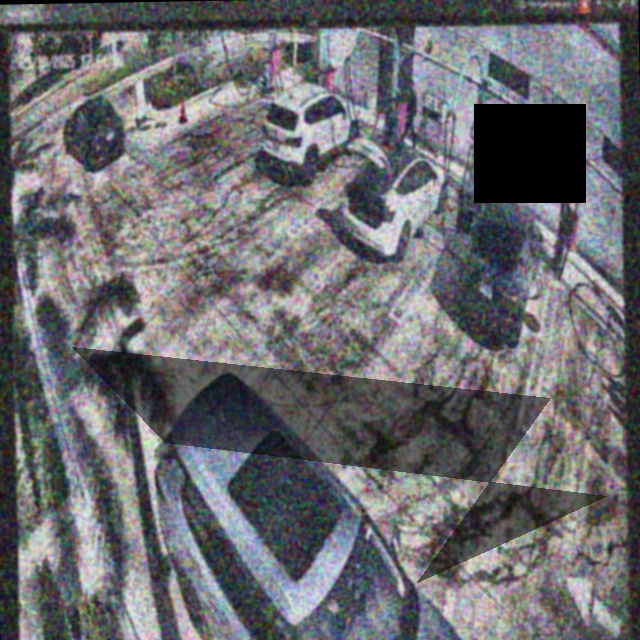Car: (149, 394, 464, 640), (449, 188, 546, 346), (342, 140, 447, 260), (265, 81, 358, 183)
